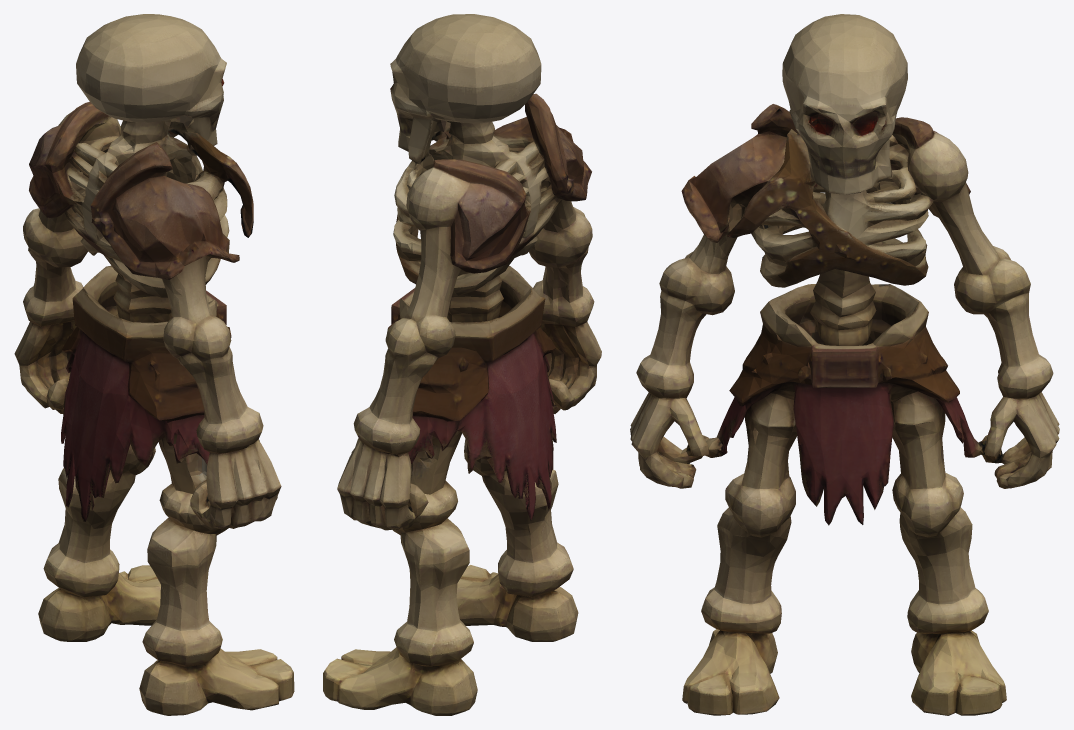
File: trellis-1.glb
3 views of the same model, side by side, from view 1: azimuth 30°, elevation 25°; view 2: azimuth 150°, elevation 25°; view 3: azimuth 270°, elevation 25° (orthographic).
Visible parts, largest first — view 1: world; view 2: world; view 3: world.
Part boxes in pixels (x1=…): world: x1=14, y1=14, x2=294, y2=715; world: x1=323, y1=14, x2=601, y2=715; world: x1=630, y1=14, x2=1059, y2=715.
Bounding box in the file's own units: 0.2578 × 0.9976 × 0.5932.
Materials: 1 (1 with a texture image).
